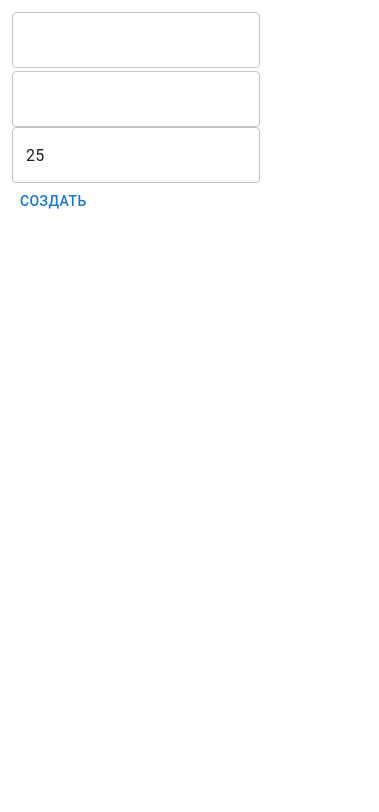
Scenario: form › success alert is visible after submit
Type "surname111" into the 1st field at point(136, 40), box top-left (12, 12), bottom-right (260, 68)
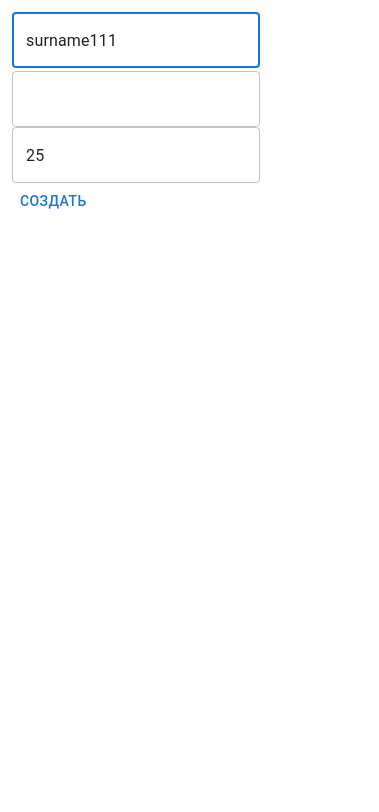
Type "fullname11" into the 2nd field at point(136, 99), box top-left (12, 71), bottom-right (260, 127)
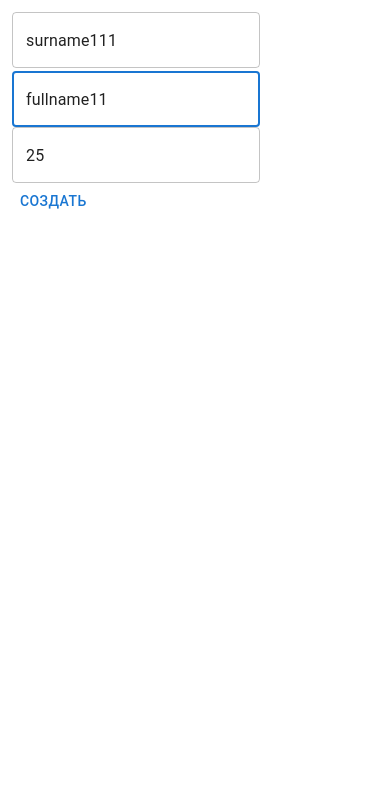
Type "2" into the 3rd field at point(136, 155), box top-left (12, 127), bottom-right (260, 183)
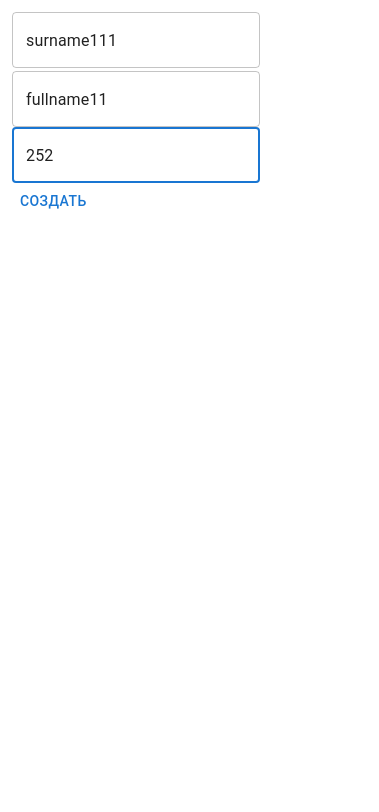
Click the button at point(53, 201), box top-left (12, 183), bottom-right (95, 220)
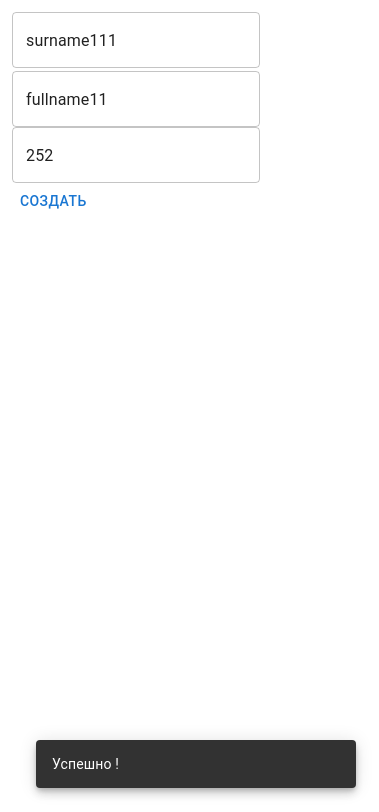
Result: the message "Успешно !" is shown at top-left (36, 740), bottom-right (356, 788)
